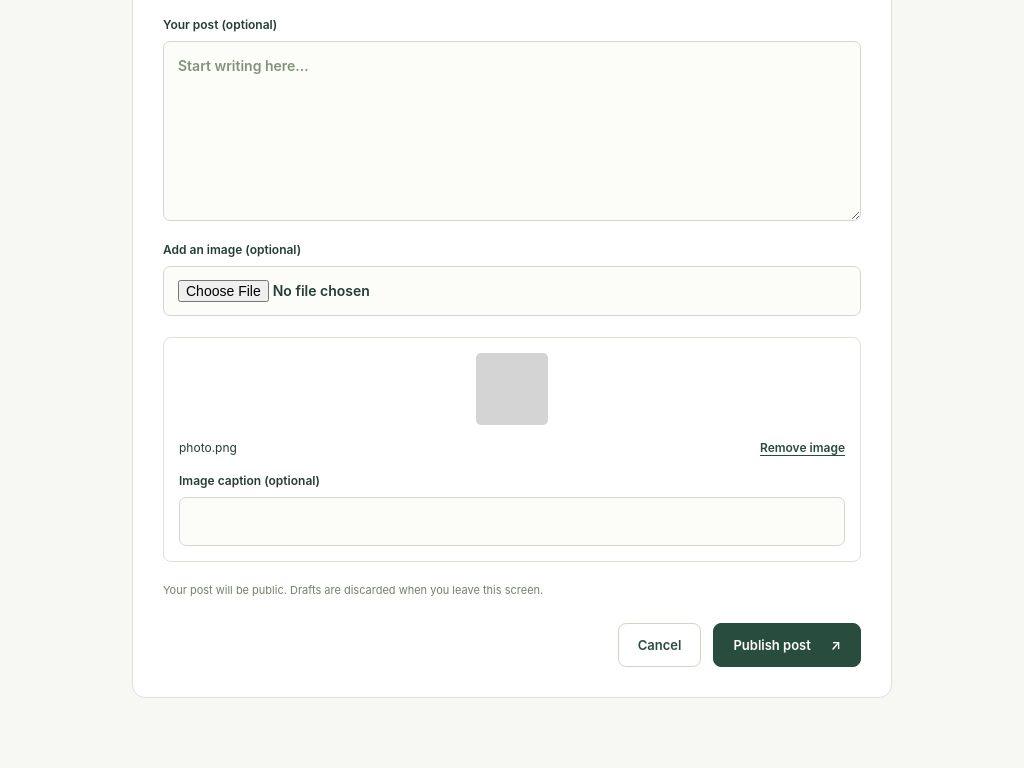
Test: image draft previews, uploads once across publish retries, and releases preview
Earlier steps of the test are not shown.
(page scrolled)
Step 1. Type "Caption" into the field labelled "Image caption (optional)" → (512, 522), box 179,498 -> 845,546
(page scrolled)
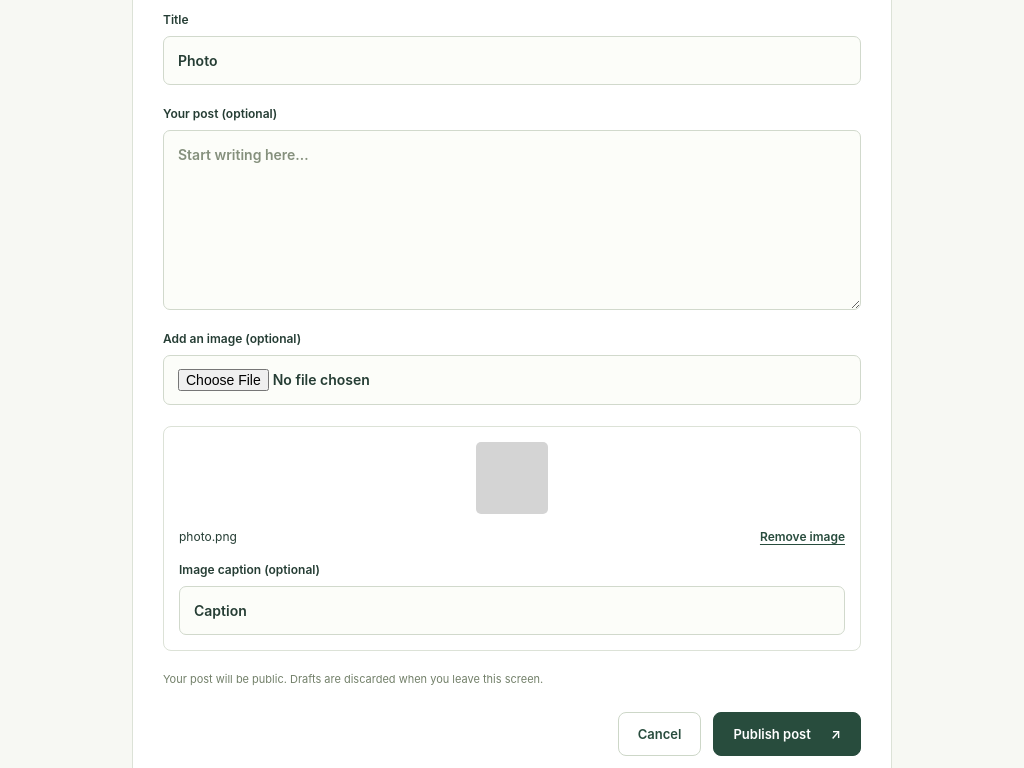
Step 2. Submit the form
(page scrolled)
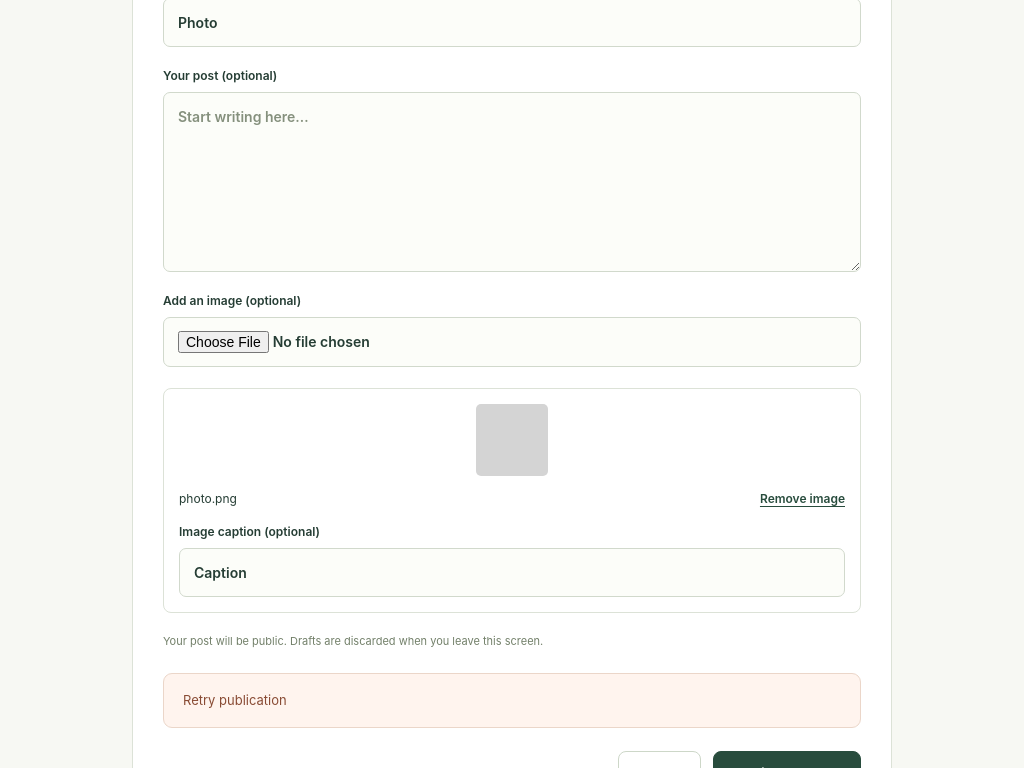
Now the message reads "Retry publication", box 183,692 -> 287,708
Step 3. Submit the form
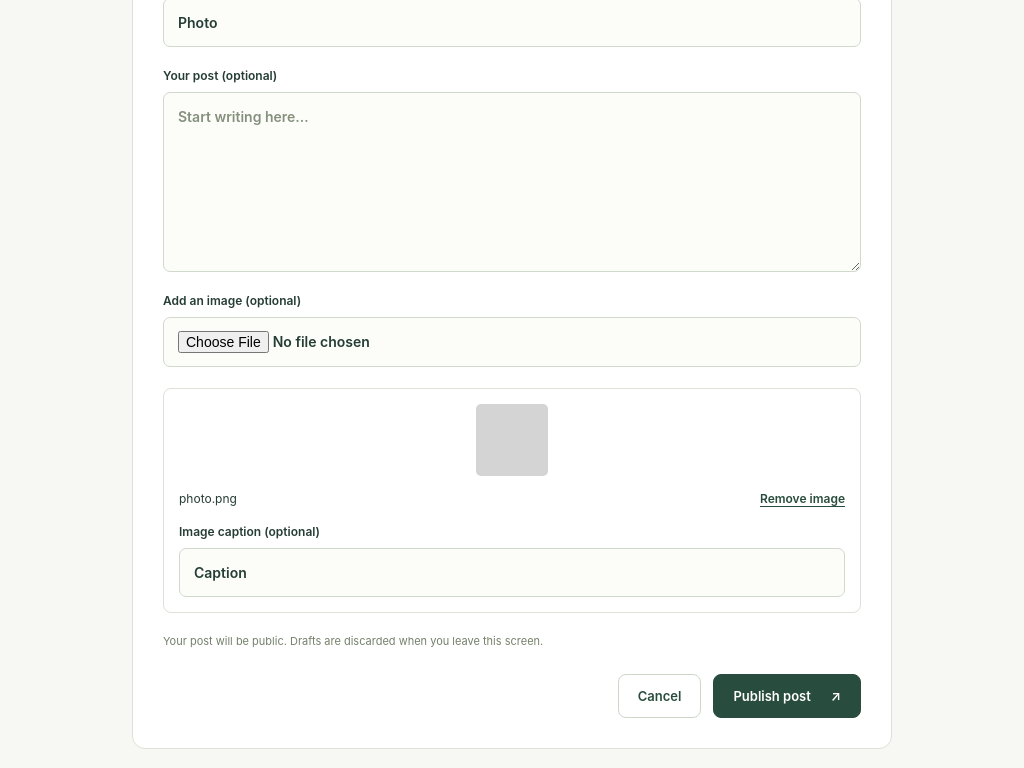
Step 4. Click the button "Remove image" → (802, 499), box 760,492 -> 845,506
(page scrolled)
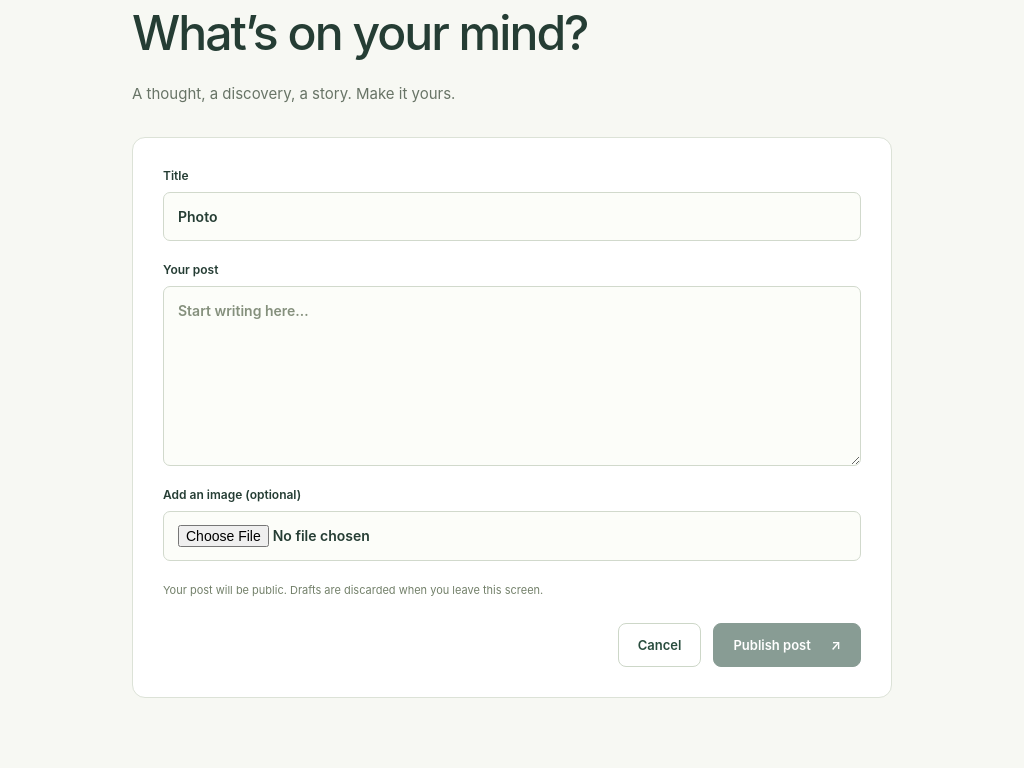
Now the picture is gone
